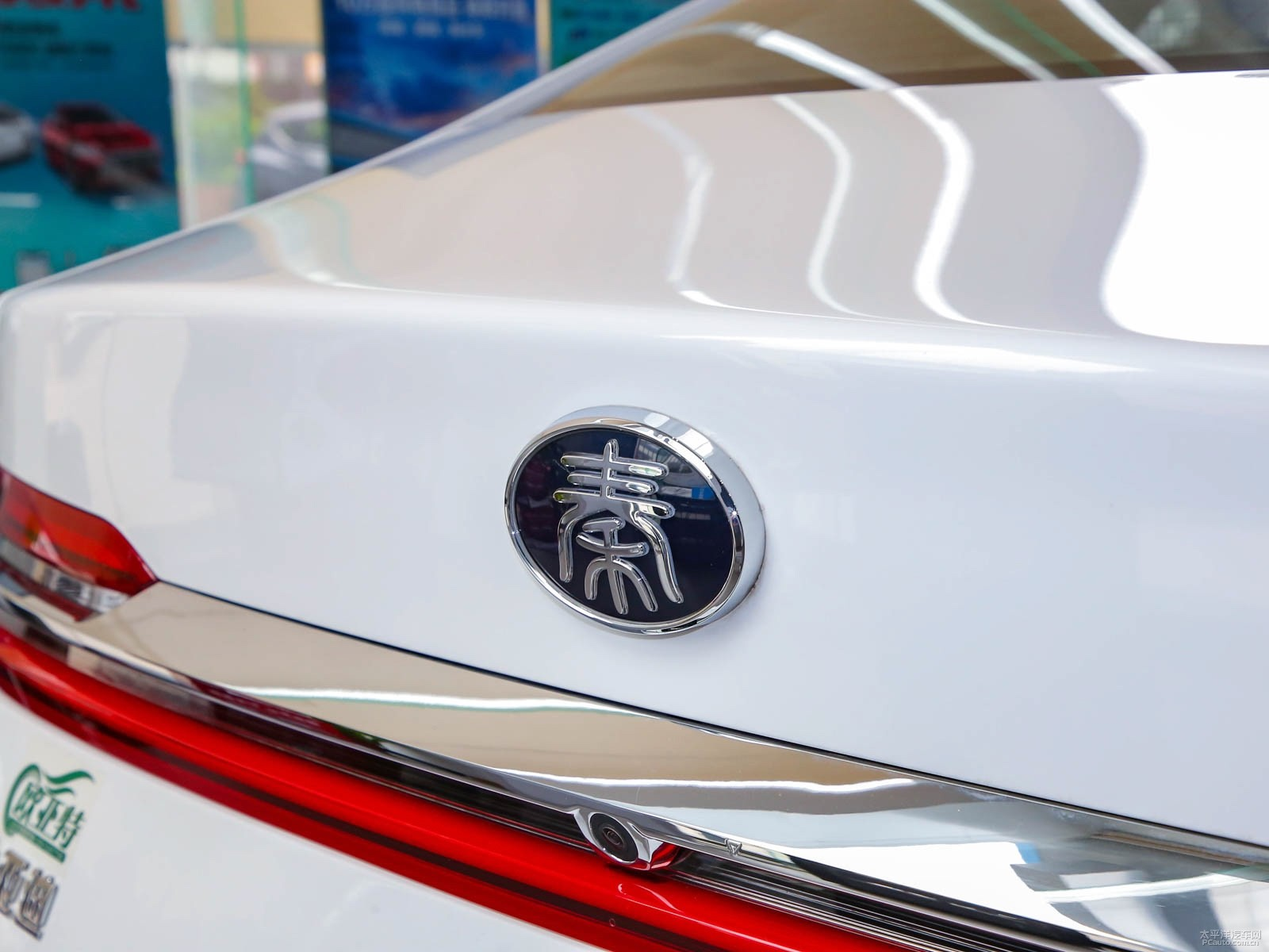BYD Qin: (505, 419, 743, 634)
